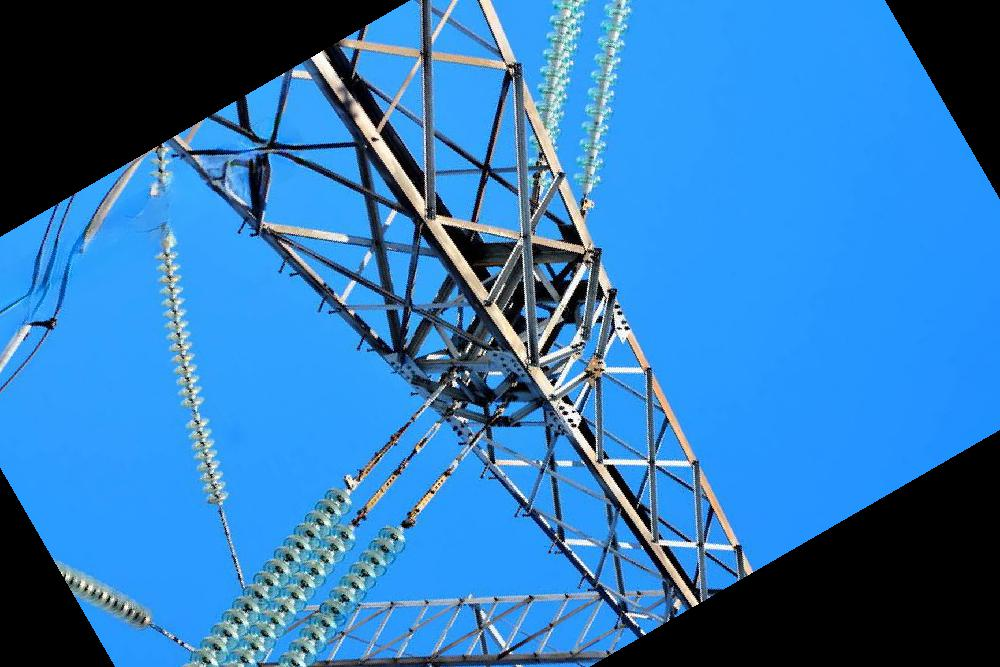insulator: (180, 484, 365, 667), (147, 245, 232, 512), (271, 522, 410, 667), (567, 1, 637, 187), (521, 1, 588, 183), (49, 553, 157, 634)
insulator_stringdrop: (178, 395, 212, 433)
